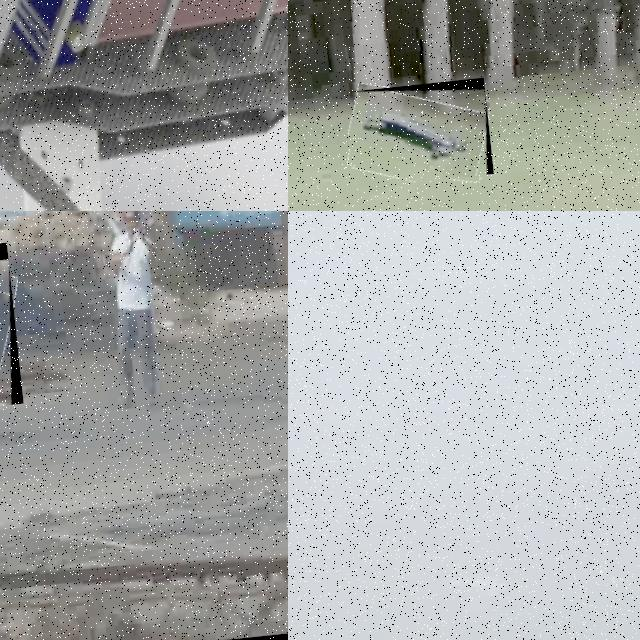0: (344, 77, 494, 188)
drone: (0, 0, 288, 211)
